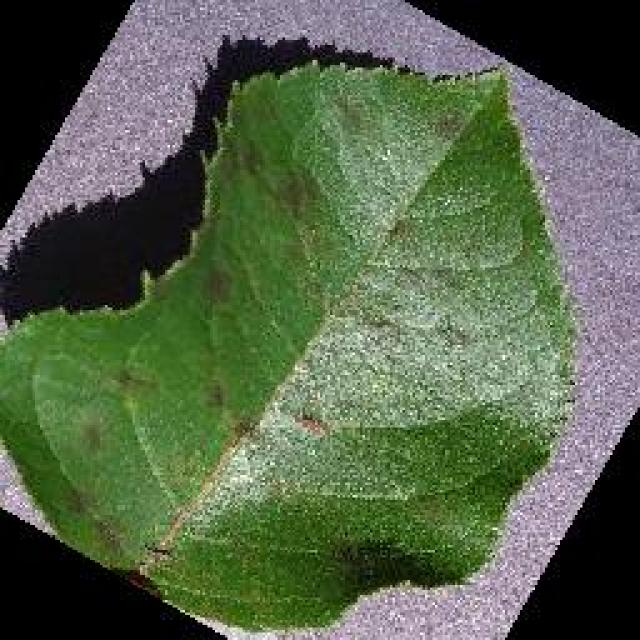apple scab disease: (0, 50, 582, 637)
